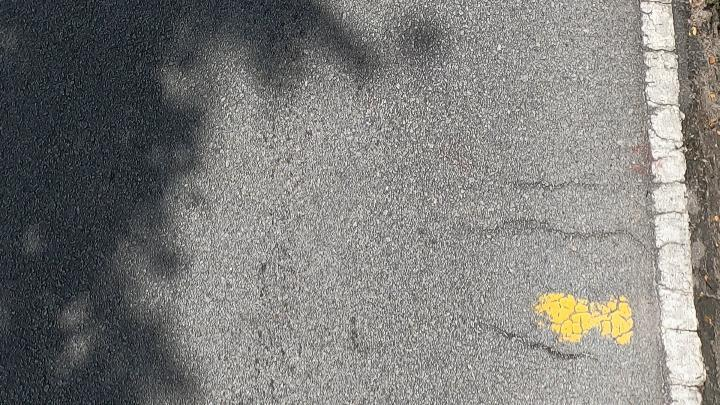Lane: (639, 0, 720, 405), (640, 0, 705, 404)
